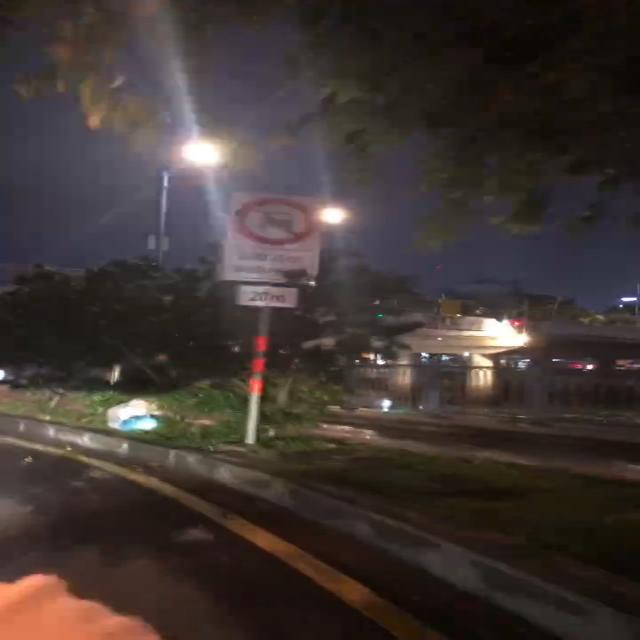Bien bao cam xe oto: (232, 194, 326, 250)
